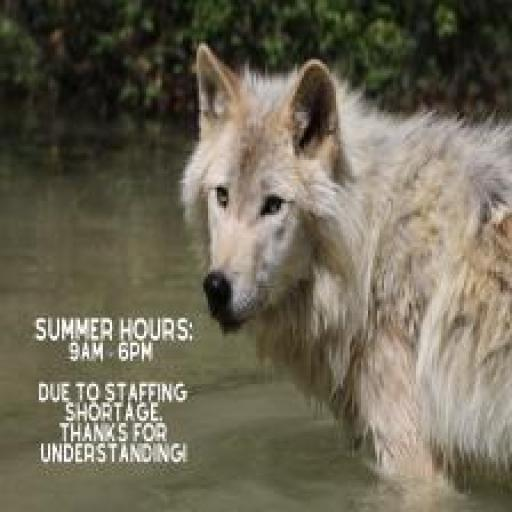wolf: (169, 39, 511, 512)
